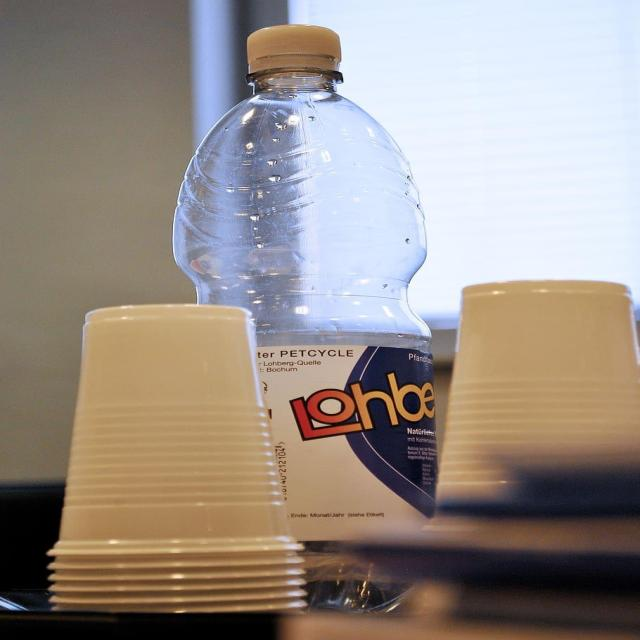bottle: (156, 16, 457, 616)
